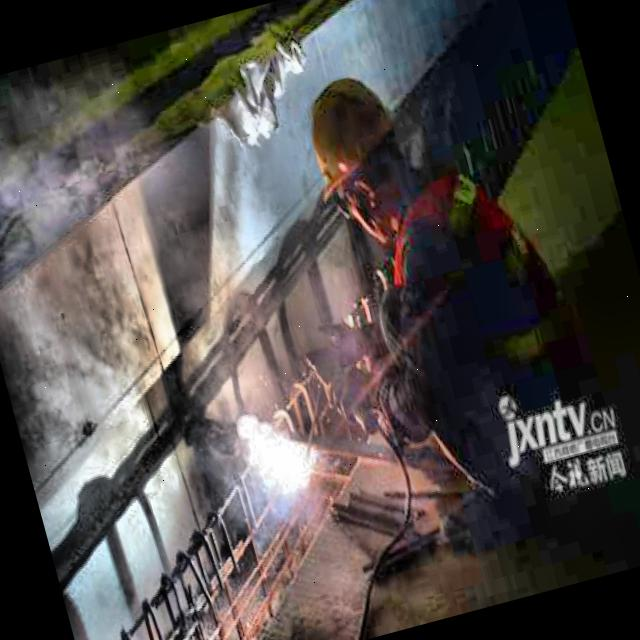helmet: (294, 58, 438, 260)
